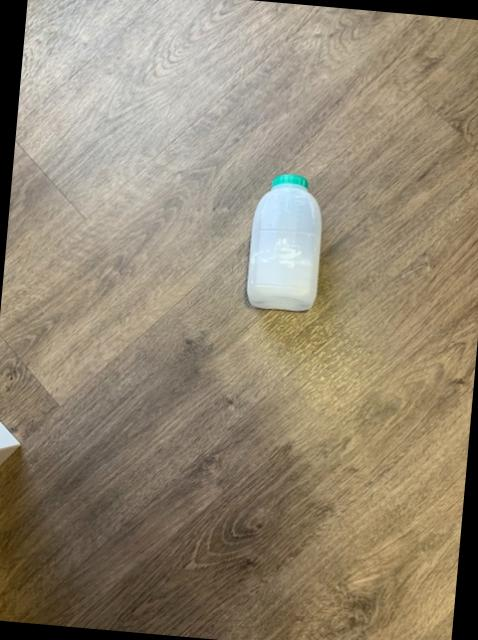plastic: (248, 173, 322, 309)
